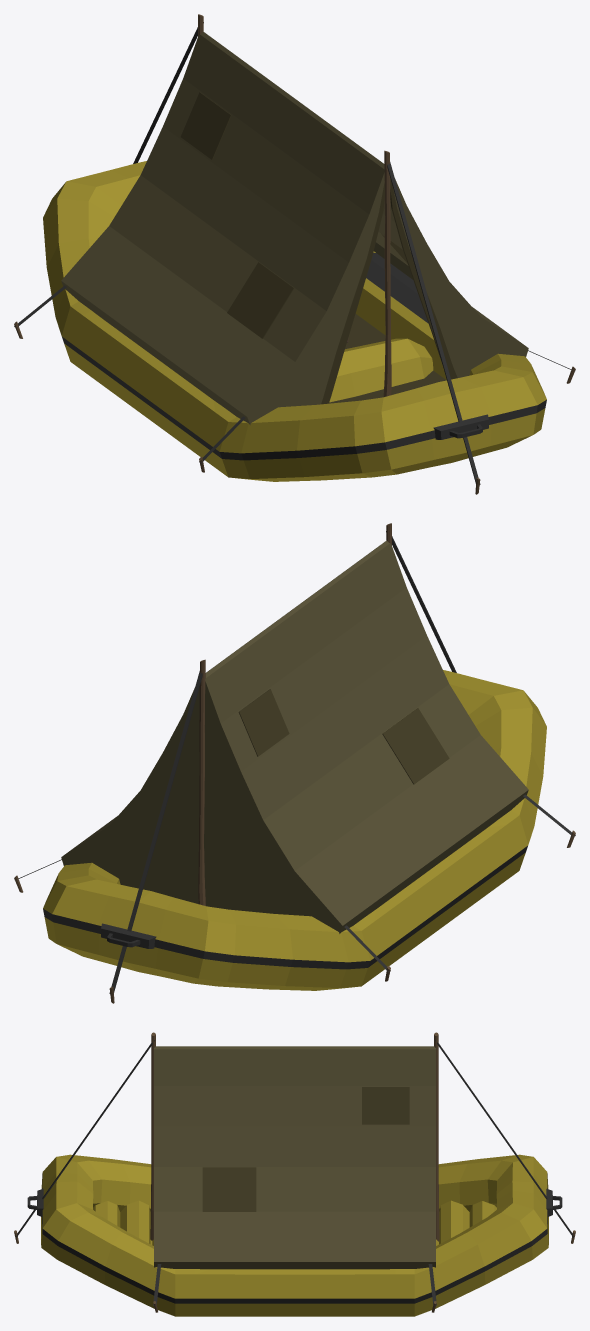
Rendered from camp.glb.
The picture shows the model from 3 angles, top to bottom: view 1: azimuth 30°, elevation 25°; view 2: azimuth 150°, elevation 25°; view 3: azimuth 270°, elevation 25°; orthographic projection. The views are drawn at different scales.
Visible parts, largest first — view 1: Tent, Raft; view 2: Tent, Raft; view 3: Tent, Raft.
Boxes of the visible parts, box(x1,y1,x2,y2) form: Tent: box(14, 14, 575, 494); Raft: box(43, 161, 546, 481); Tent: box(14, 523, 575, 1003); Raft: box(43, 670, 546, 990); Tent: box(14, 1032, 575, 1312); Raft: box(27, 1154, 562, 1316).
Bounding box in the file's own units: 14.58 × 12.23 × 24.87.
